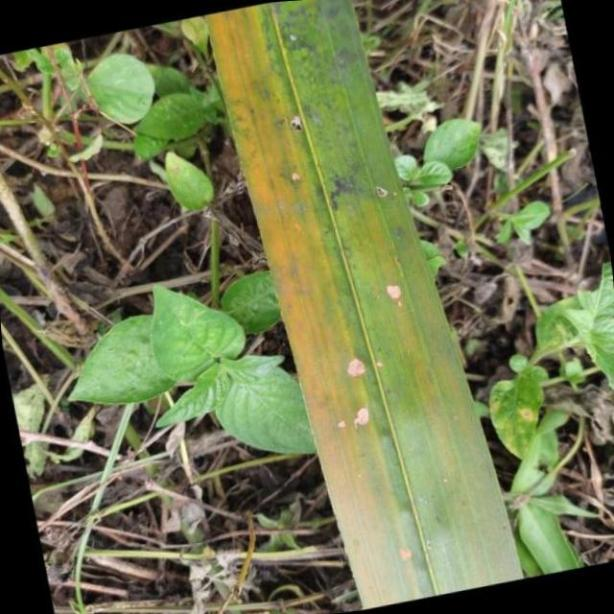Megnesium: (202, 0, 528, 608)
